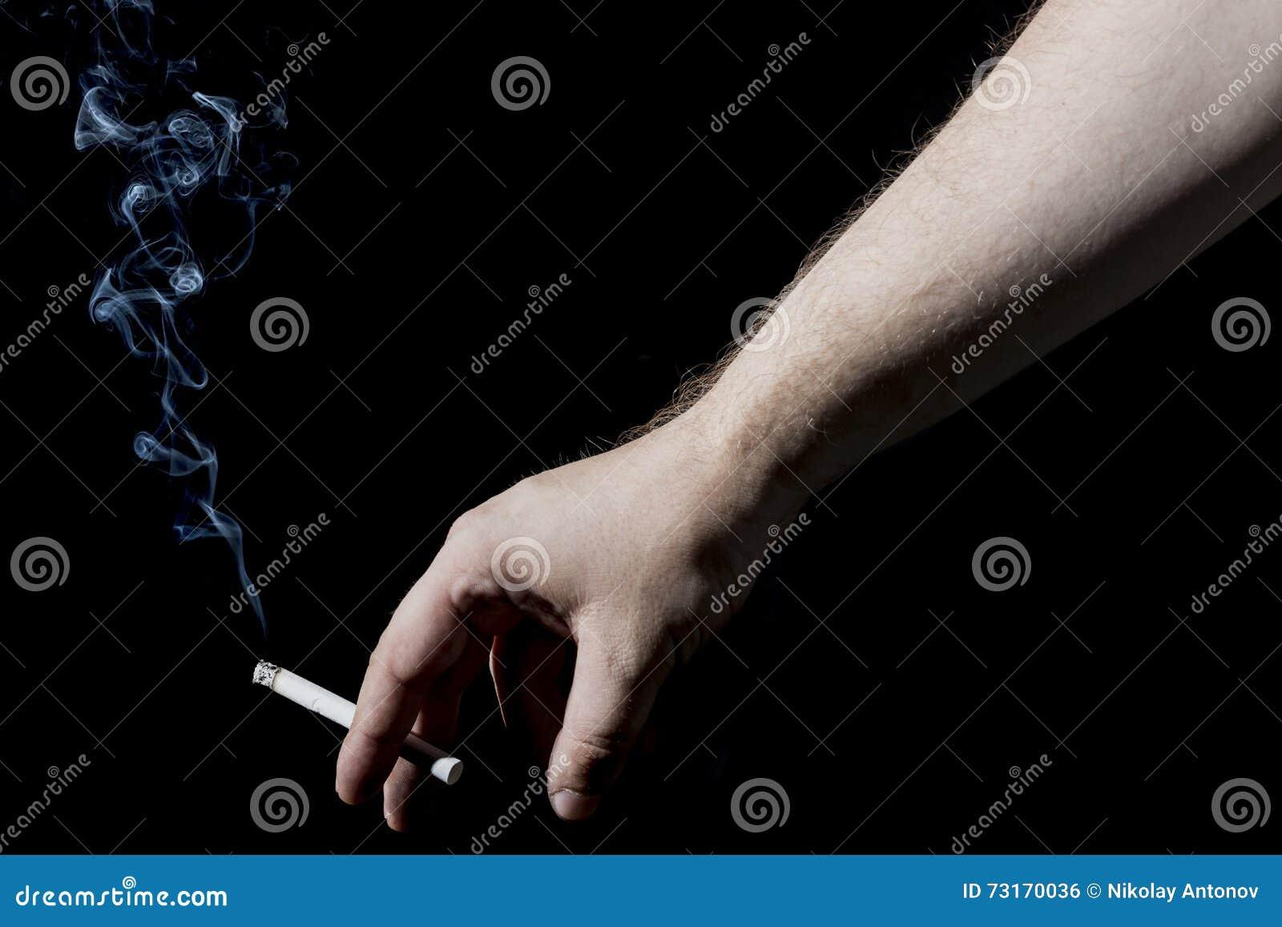cigarette: (253, 661, 355, 727)
